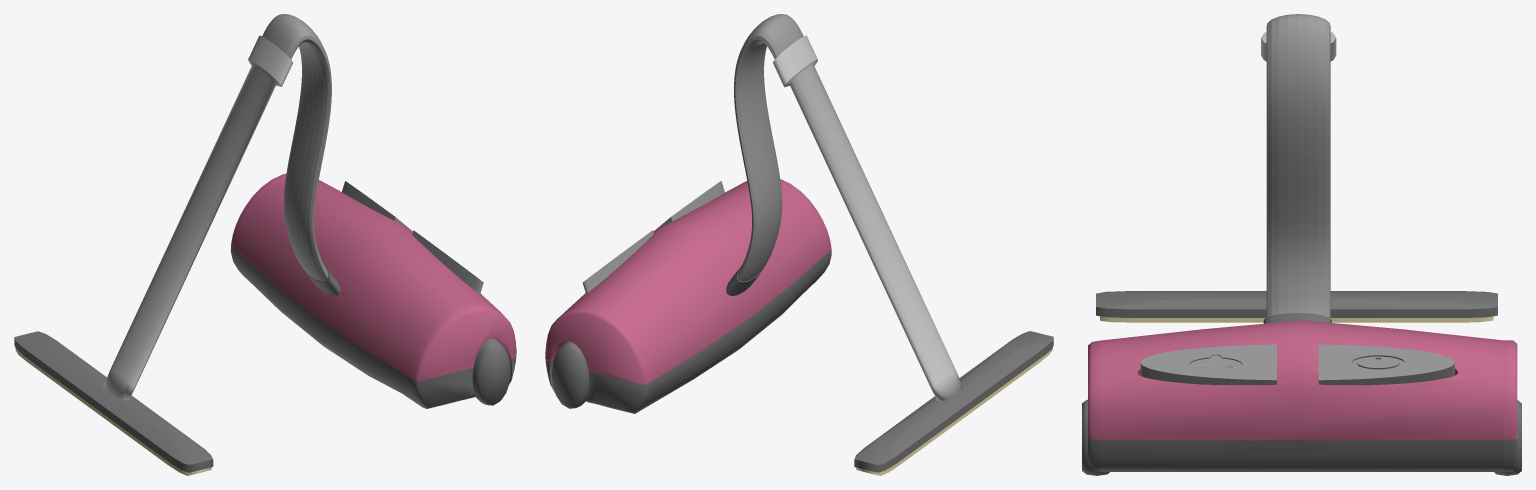
File: sh-contrib-aspirateur.glb
The picture shows the model from 3 angles, left to right: view 1: azimuth 30°, elevation 25°; view 2: azimuth 150°, elevation 25°; view 3: azimuth 270°, elevation 25°; orthographic projection. The views are drawn at different scales.
Visible parts, largest first — view 1: aspirateur_haut, roue_1, Cylinder_6, Tube, bouton_power, brosse; view 2: aspirateur_haut, roue_1, Cylinder_6, Tube, bouton_power, brosse; view 3: aspirateur_haut, roue_1, Tube, bouton_power, brosse.
Part boxes in pixels (left/top/right/bottom): aspirateur_haut: left=231, top=173, right=516, bottom=381; roue_1: left=14, top=245, right=516, bottom=472; Cylinder_6: left=103, top=35, right=292, bottom=400; Tube: left=262, top=14, right=331, bottom=280; bouton_power: left=342, top=181, right=483, bottom=293; brosse: left=15, top=349, right=211, bottom=475; aspirateur_haut: left=545, top=179, right=831, bottom=384; roue_1: left=545, top=249, right=1053, bottom=472; Cylinder_6: left=773, top=35, right=963, bottom=401; Tube: left=734, top=14, right=803, bottom=281; bouton_power: left=583, top=181, right=724, bottom=293; brosse: left=856, top=348, right=1052, bottom=475; aspirateur_haut: left=1088, top=320, right=1517, bottom=440; roue_1: left=1082, top=291, right=1521, bottom=475; Tube: left=1266, top=14, right=1330, bottom=318; bouton_power: left=1140, top=344, right=1454, bottom=385; brosse: left=1099, top=316, right=1493, bottom=322.
Size of the model in its own units: 1 by 1 by 1.
